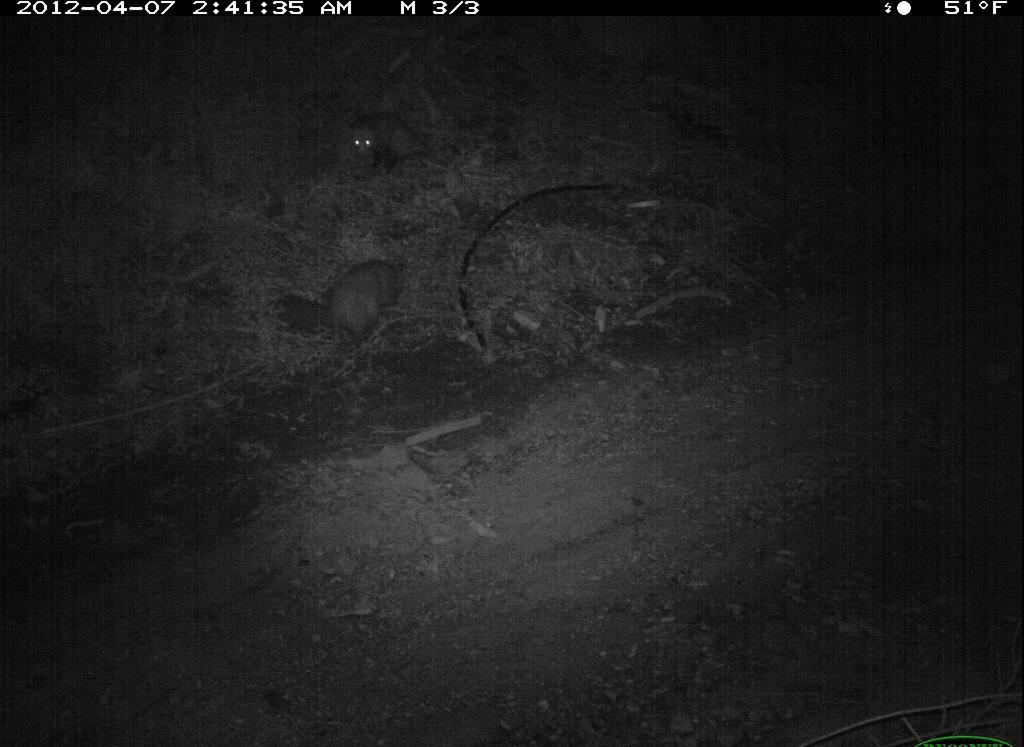opossum: (292, 228, 424, 393), (278, 100, 469, 178)
